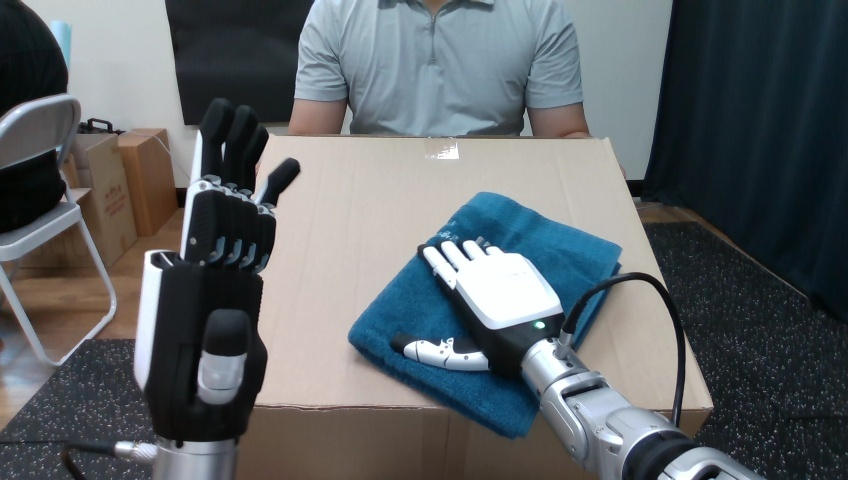left robot arm: (392, 240, 761, 479), (572, 279, 678, 422)
left robot hand: (391, 239, 762, 479), (572, 279, 678, 422)
right robot arm: (392, 240, 761, 479), (572, 279, 678, 422)
right robot hand: (391, 239, 762, 479), (572, 279, 678, 422)
